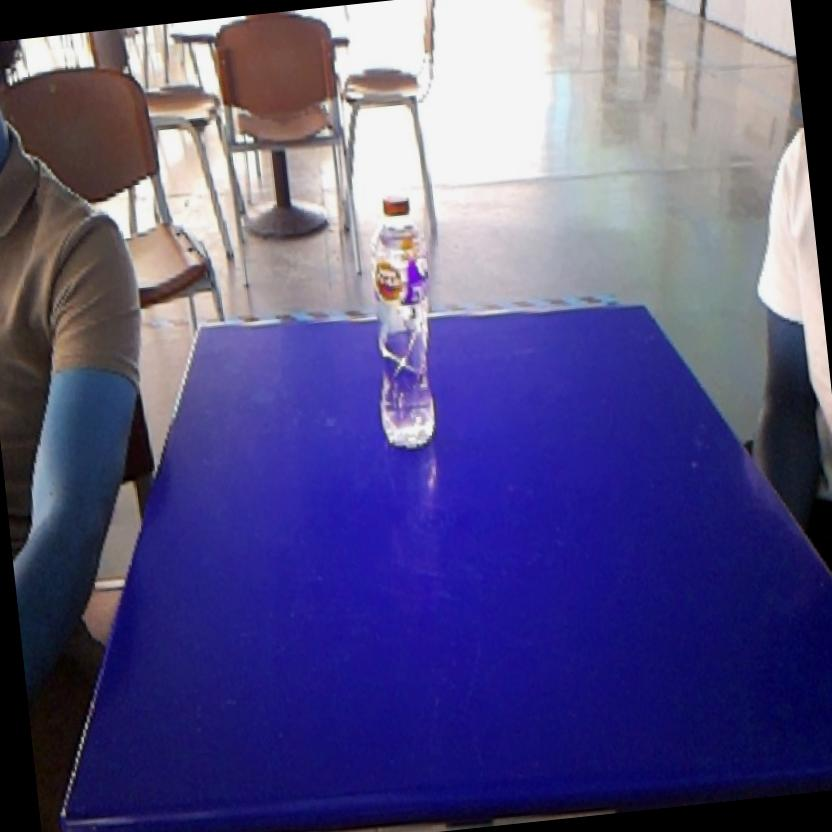good: (352, 182, 456, 464)
